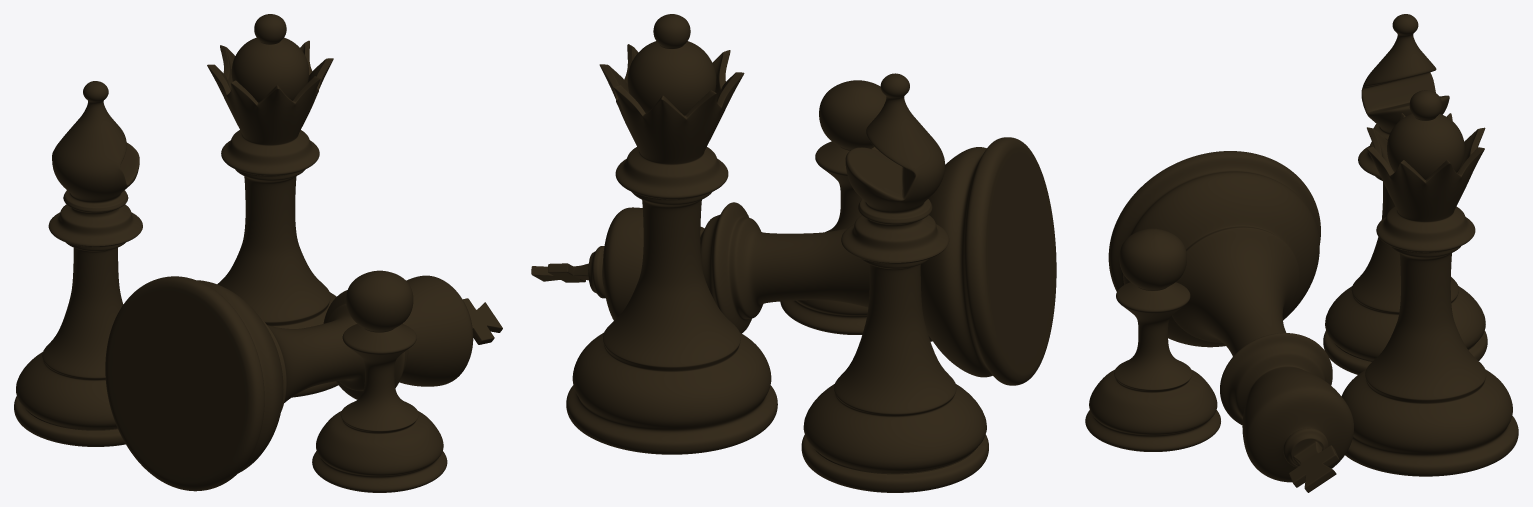
File: 10. Chess set-DT4fA7py.glb
The picture shows the model from 3 angles, left to right: view 1: azimuth 30°, elevation 25°; view 2: azimuth 150°, elevation 25°; view 3: azimuth 270°, elevation 25°; orthographic projection. The views are drawn at different scales.
Visible parts, largest first — view 1: Cylinder.025, Cylinder.026, Cylinder.023, Cylinder.024; view 2: Cylinder.023, Cylinder.025, Cylinder.026, Cylinder.024; view 3: Cylinder.025, Cylinder.023, Cylinder.024, Cylinder.026.
Boxes of the visible parts, box(x1,y1,x2,y2) form: Cylinder.025: box(105, 275, 502, 491); Cylinder.026: box(14, 81, 142, 446); Cylinder.023: box(207, 14, 338, 397); Cylinder.024: box(312, 270, 447, 492); Cylinder.023: box(566, 14, 777, 454); Cylinder.025: box(531, 137, 1056, 385); Cylinder.026: box(801, 73, 988, 492); Cylinder.024: box(780, 80, 886, 334); Cylinder.025: box(1108, 151, 1353, 492); Cylinder.023: box(1341, 90, 1518, 476); Cylinder.024: box(1085, 228, 1220, 451); Cylinder.026: box(1323, 14, 1487, 374).
Size of the model in its own units: 0.7282 by 0.5665 by 0.6357.
